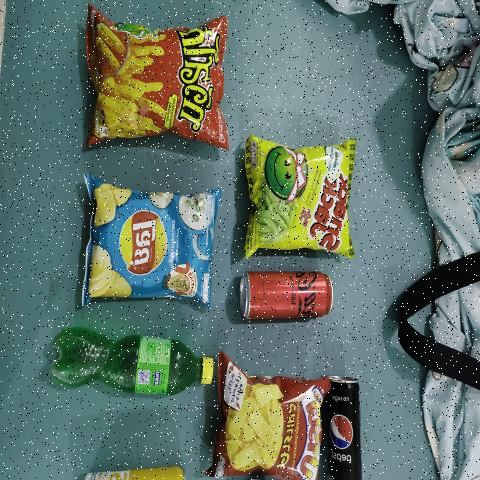fanta_green: (49, 334, 216, 390)
lay_blue: (98, 185, 206, 297)
party_red: (222, 367, 317, 480)
pepsi_black: (332, 382, 361, 480)
snack_jack: (253, 149, 349, 251)
twisco: (99, 29, 217, 134)
